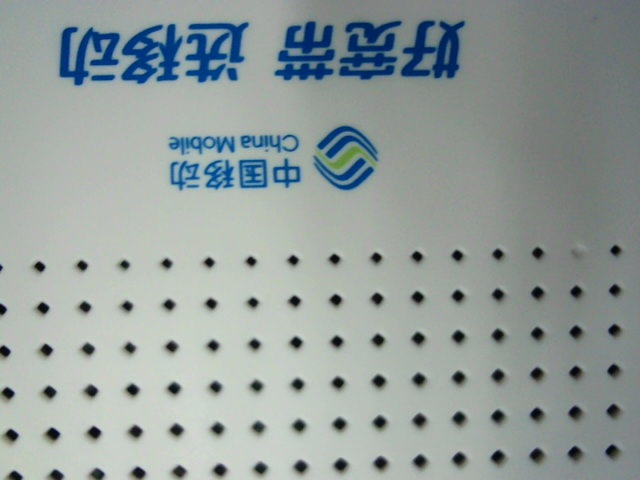AA_ChinaMobile: (41, 7, 472, 196)
